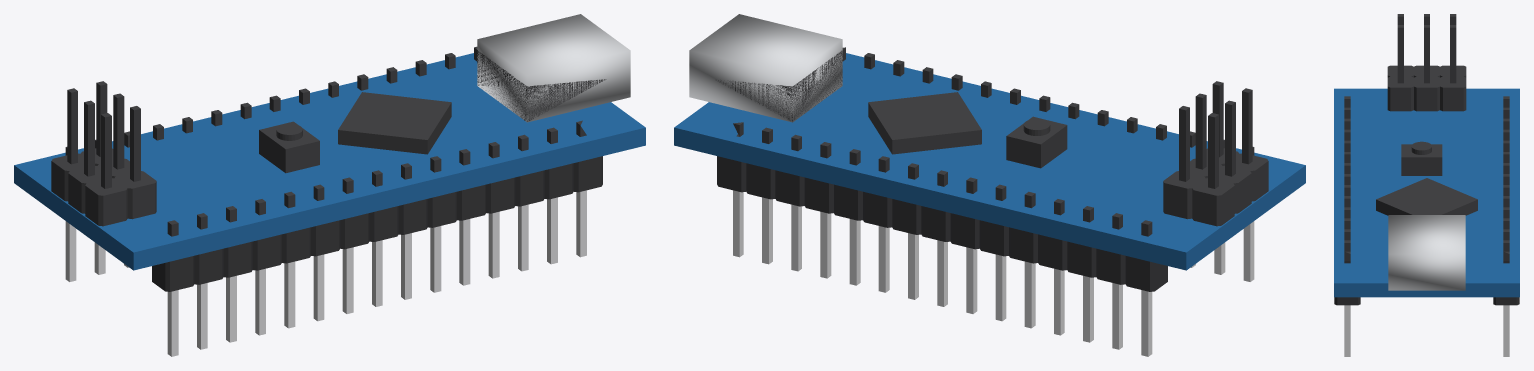
The model's file is arduino_nano.glb.
3 renders of one model, left to right at view 1: azimuth 30°, elevation 25°; view 2: azimuth 150°, elevation 25°; view 3: azimuth 270°, elevation 25°, orthographic. The views are drawn at different scales.
Parts seen in each view (by area): view 1: world; view 2: world; view 3: world.
Boxes of the visible parts, x1=… form: world: x1=14, y1=14, x2=645, y2=356; world: x1=674, y1=14, x2=1305, y2=356; world: x1=1334, y1=14, x2=1519, y2=356.
Size of the model in its own units: 46.3 by 18.5 by 18.
